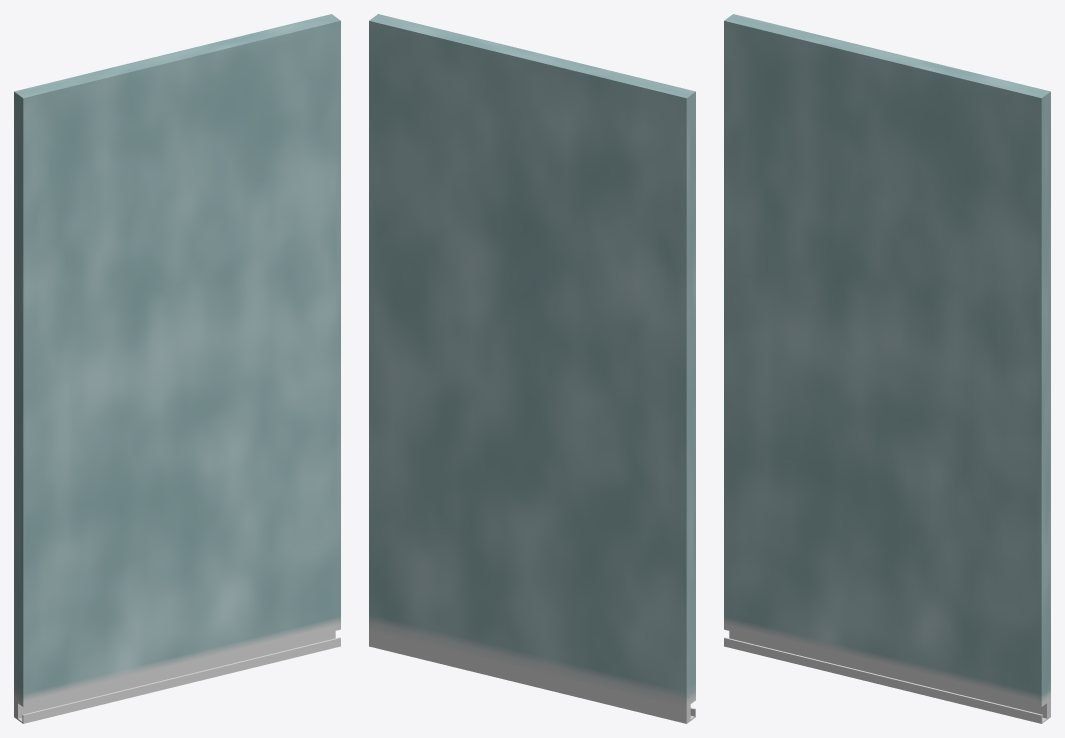
The model's file is top_shelf_left_door.fbx.
3 renders of one model, left to right at view 1: azimuth 30°, elevation 25°; view 2: azimuth 150°, elevation 25°; view 3: azimuth 330°, elevation 25°, orthographic.
Visible parts, largest first — view 1: top_shelf_left_door_Baked; view 2: top_shelf_left_door_Baked; view 3: top_shelf_left_door_Baked.
Part boxes in pixels (x1,y1,x2,y2): top_shelf_left_door_Baked: (14,14,340,723); top_shelf_left_door_Baked: (369,14,695,723); top_shelf_left_door_Baked: (724,14,1050,723).
Bounding box in the file's own units: 39.43 × 74.2 × 1.99.
